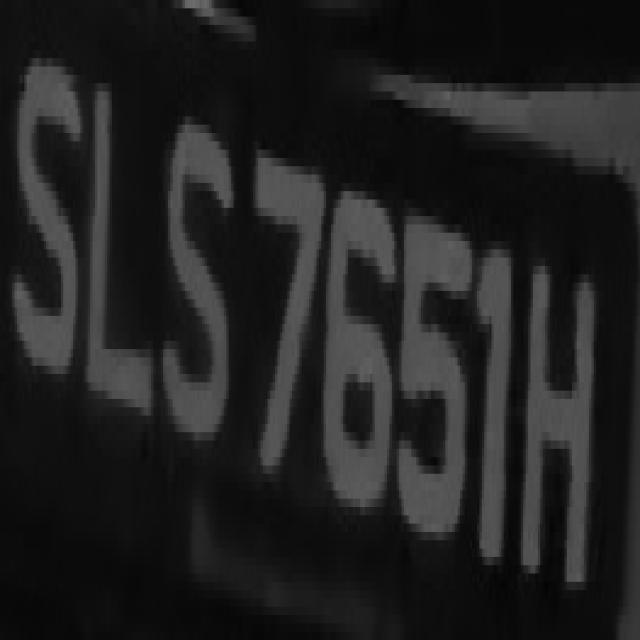1: (465, 208, 516, 607)
5: (394, 183, 470, 557)
6: (314, 125, 394, 557)
7: (239, 116, 321, 507)
H: (511, 224, 596, 624)
L: (73, 42, 148, 440)
S: (161, 92, 231, 457), (17, 42, 73, 390)
